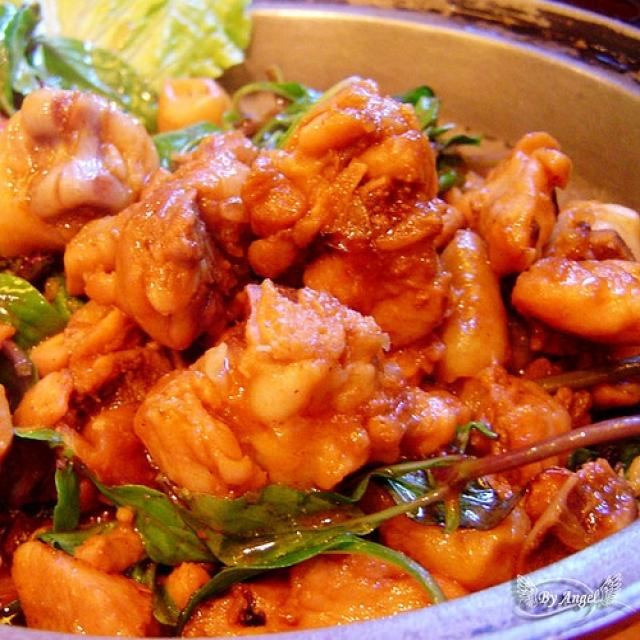鸡肉料理 含炸鸡: (12, 43, 620, 602)
